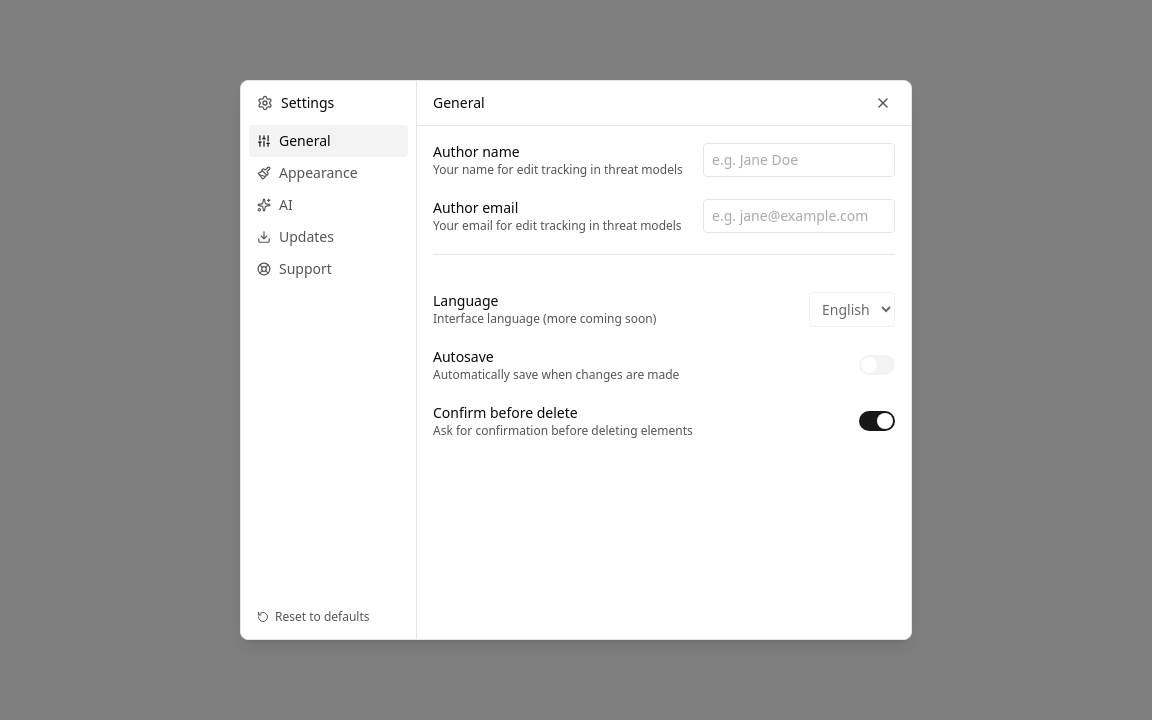
Scenario: SettingsDialog › shows canvas settings in Appearance tab
Step 1. Click the button "Appearance" → (328, 173), box [249,157,408,189]
(page scrolled)
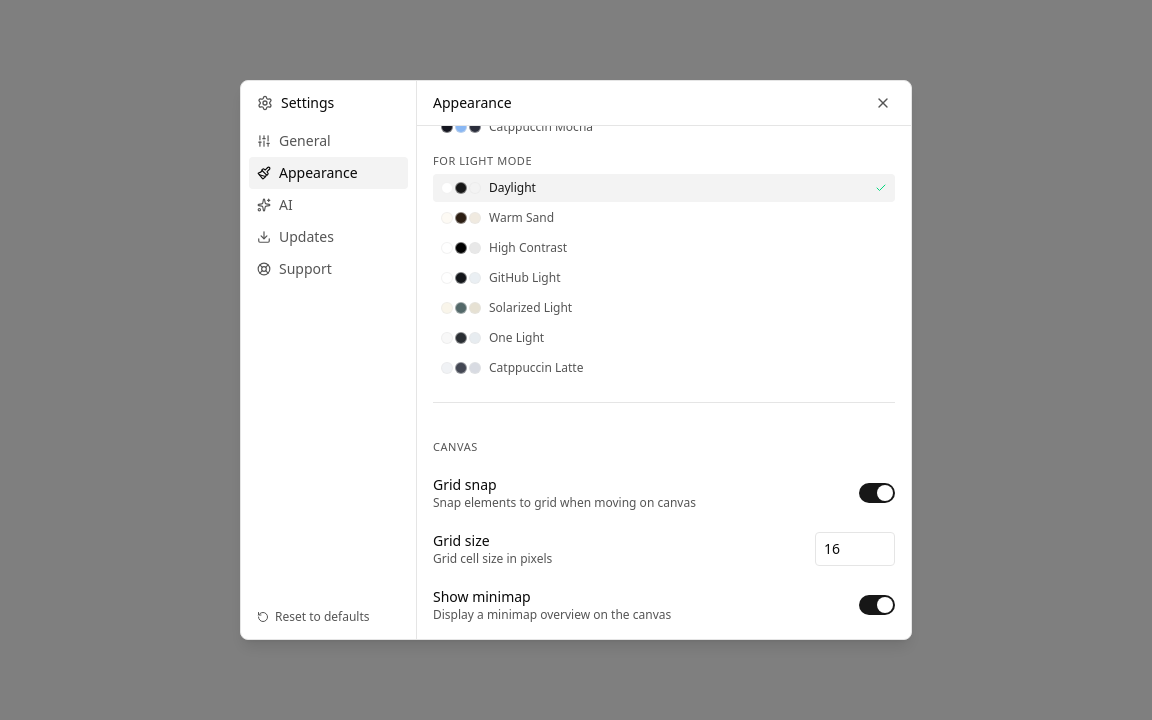
Now the text "Grid snap" is shown, box [433,475,497,494]
Now the text "Grid size" is shown, box [433,531,490,550]
Now the text "Show minimap" is shown, box [433,587,531,606]
